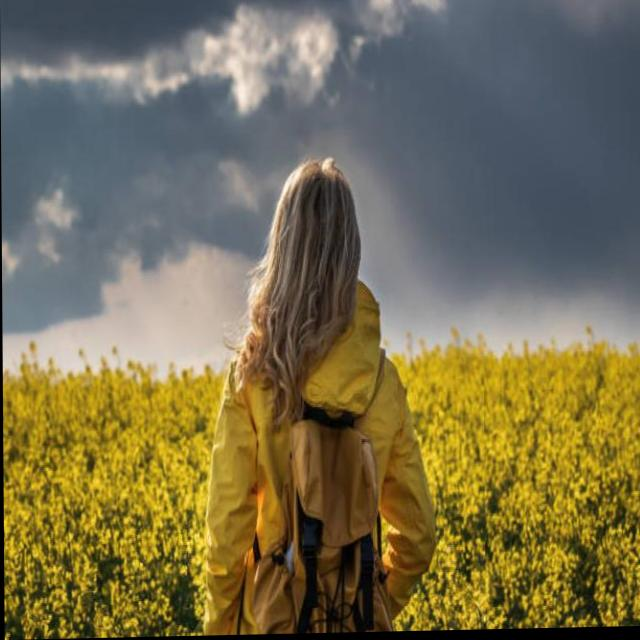no helmet: (256, 149, 375, 351)
